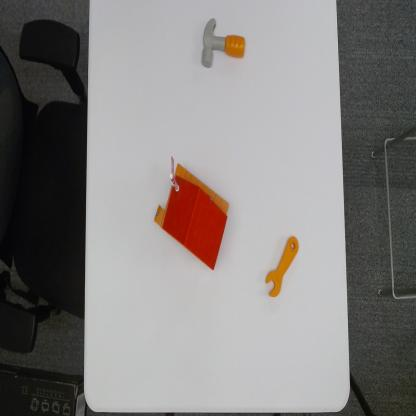Hammer: (200, 16, 247, 72)
House: (153, 155, 231, 274)
Screwdriver: (264, 231, 300, 299)
